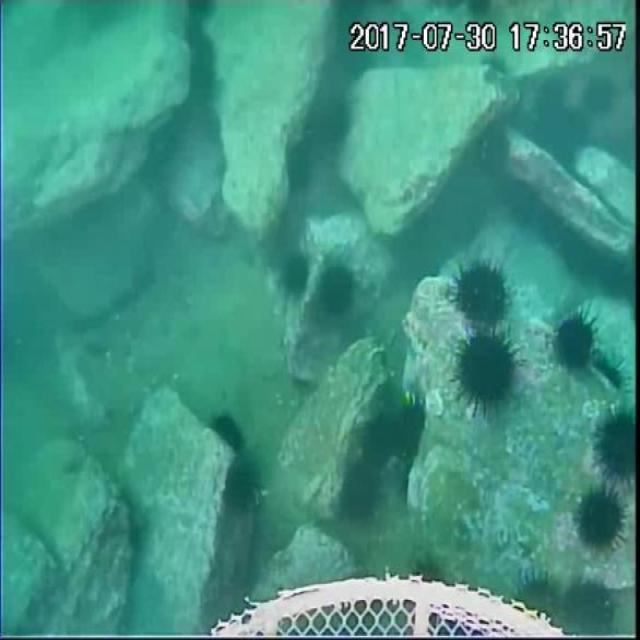echinus: (450, 332, 518, 411), (573, 483, 629, 557), (452, 261, 510, 328), (593, 410, 640, 490), (558, 574, 616, 634), (530, 108, 580, 168), (304, 88, 350, 148), (334, 467, 382, 524), (512, 566, 558, 622), (314, 264, 360, 319), (388, 402, 430, 462), (554, 312, 596, 369), (473, 119, 512, 180), (592, 243, 631, 297), (223, 459, 259, 516), (211, 410, 250, 462), (359, 415, 396, 469), (560, 224, 594, 281), (502, 178, 536, 226), (284, 145, 316, 195), (278, 253, 312, 300), (581, 72, 615, 116), (534, 204, 563, 251), (535, 78, 567, 118)
